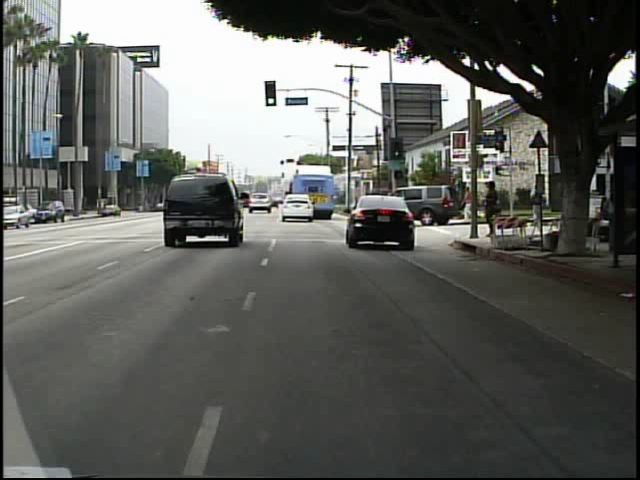person: (481, 176, 502, 243), (526, 182, 546, 238)
